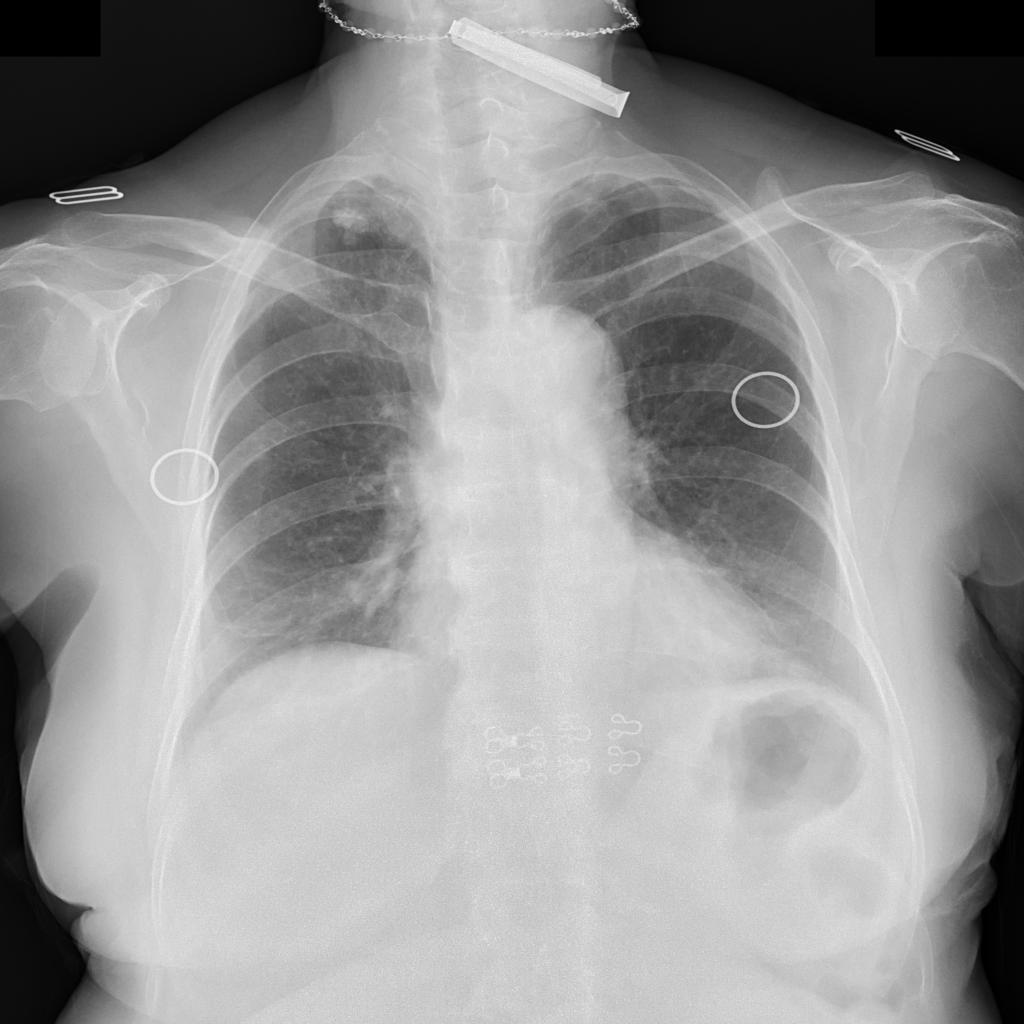Nodule: (321, 190, 376, 241)
